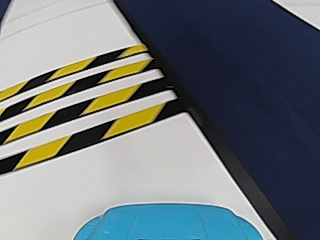bump: (3, 53, 142, 148)
